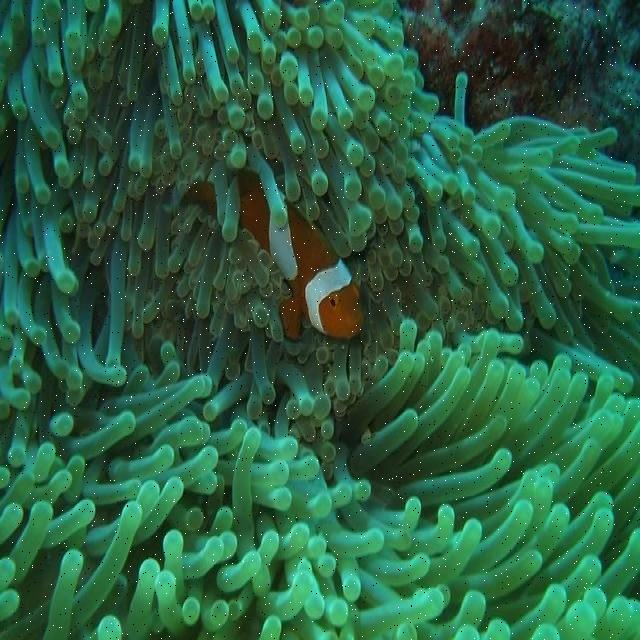fish: (239, 177, 363, 341)
reefs: (0, 2, 639, 639)
